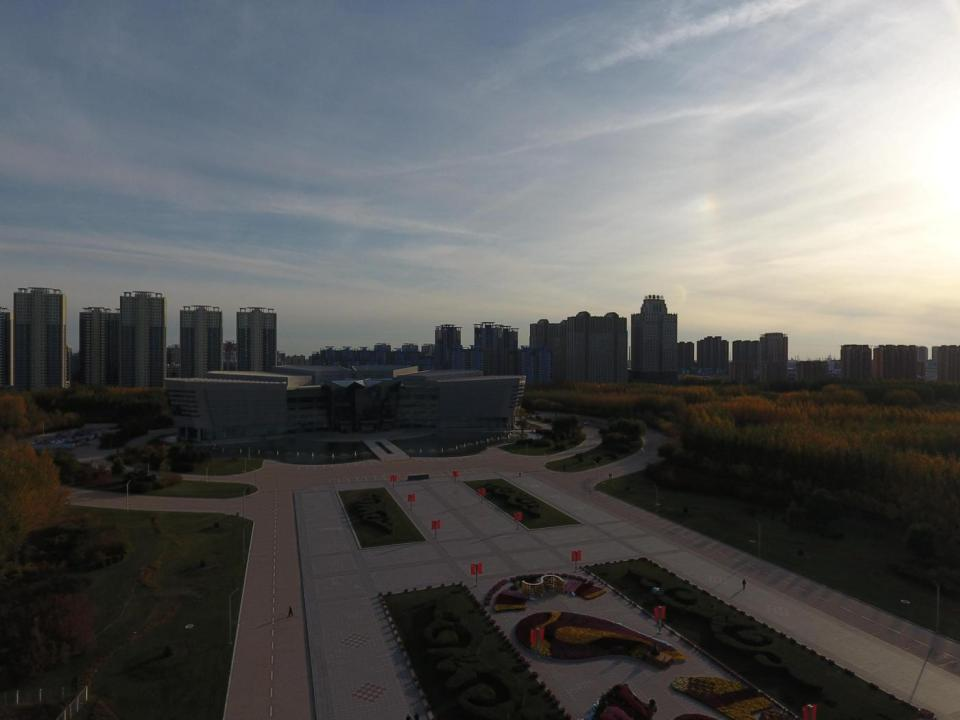car: (584, 420, 591, 425)
